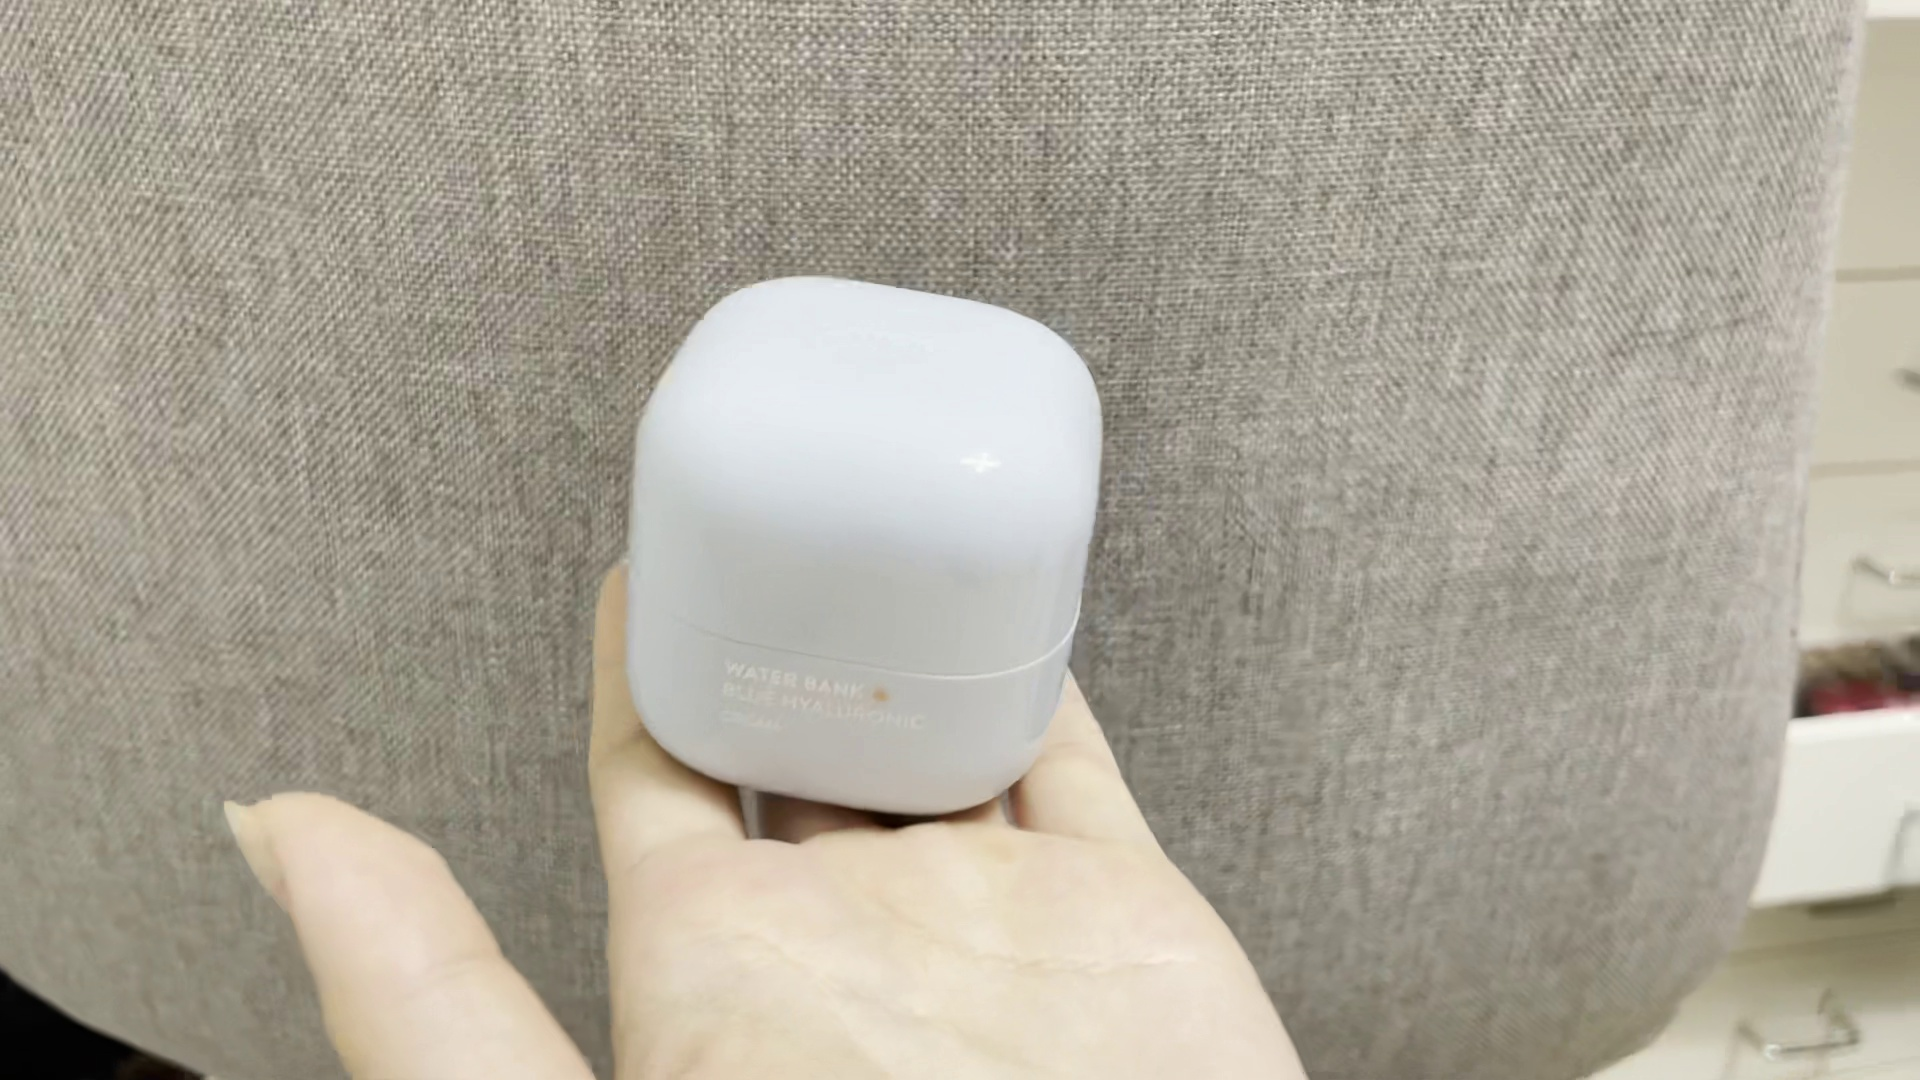cream: (628, 274, 1102, 820)
